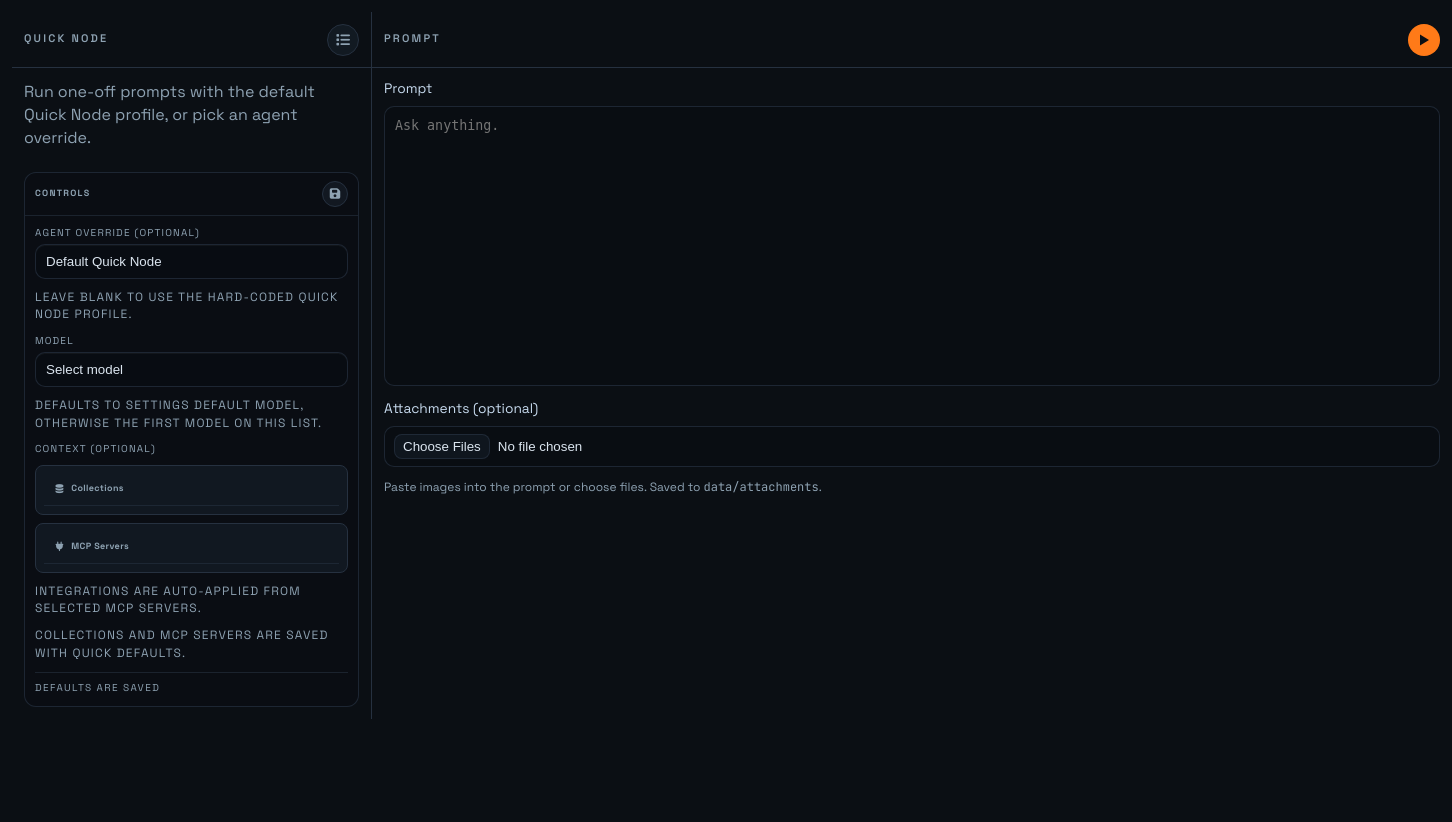
Test case: QuickNodePage › saves defaults and submits using MCP selection without manual integrations
Expected: the text "Integrations are auto-applied from selected MCP servers." is shown, left=35, top=583, right=301, bottom=616
Click the checkbox named "GitHub MCP" at (192, 552), box left=35, top=442, right=348, bottom=662
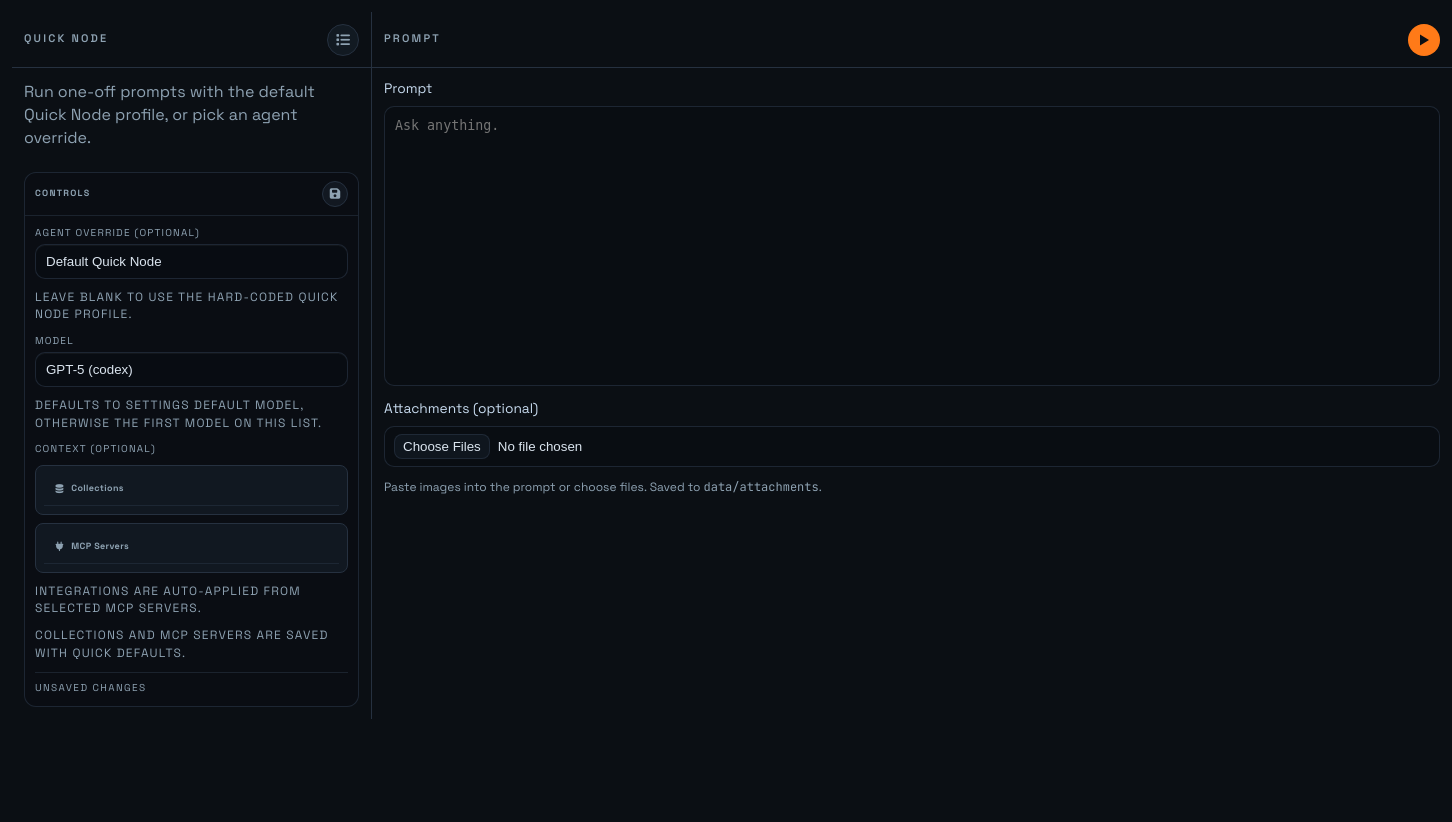
Click the button named "Save quick defaults" at (335, 194), box left=322, top=181, right=348, bottom=207
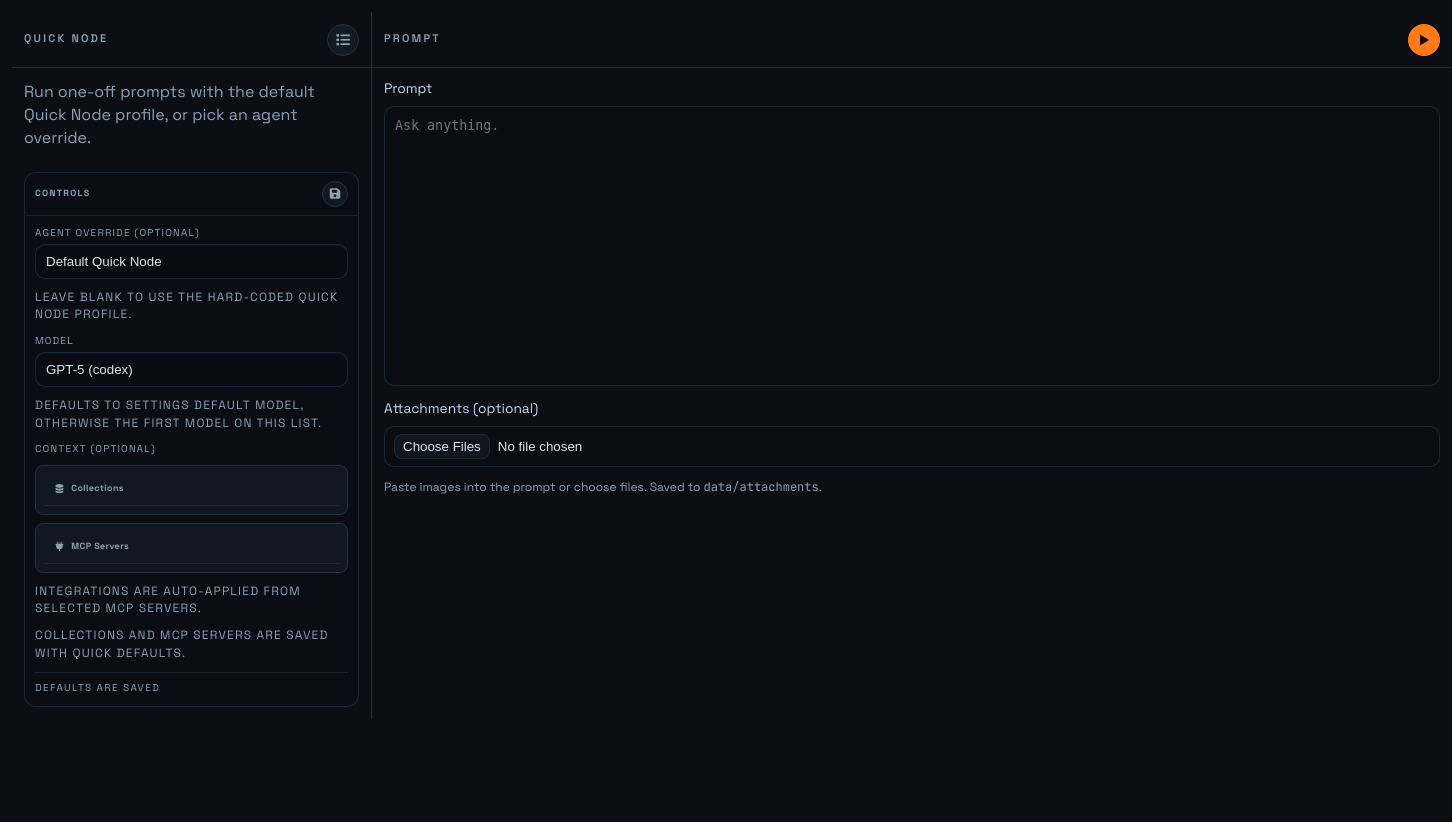
Type "Summarize open PRs" into the text box labelled "Prompt" at (912, 246), box left=384, top=106, right=1440, bottom=386
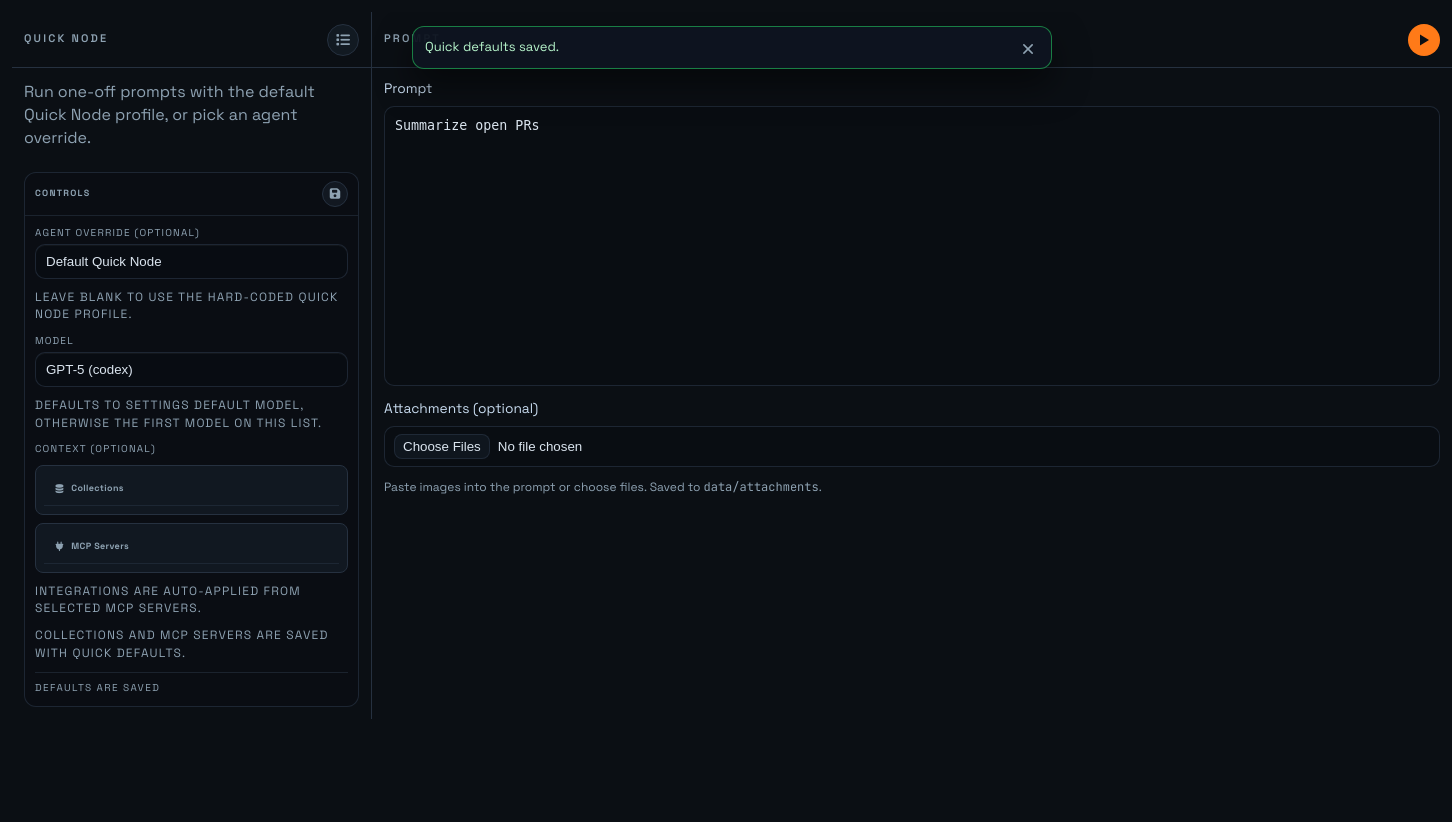
Click the button named "Send to CLI" at (1424, 40), box left=1408, top=24, right=1440, bottom=56
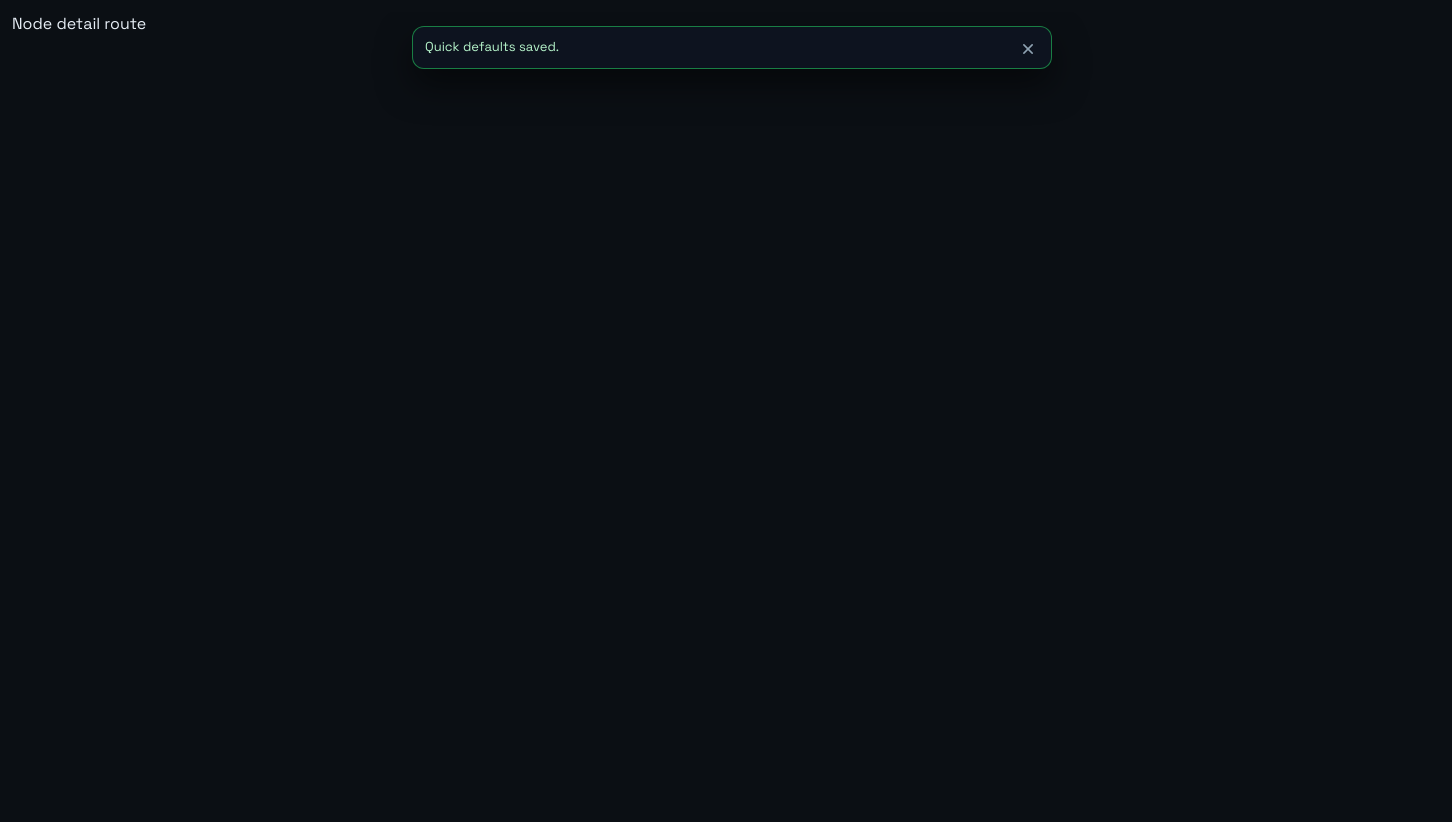
Expected: the text "Node detail route" is shown, left=12, top=13, right=146, bottom=34
